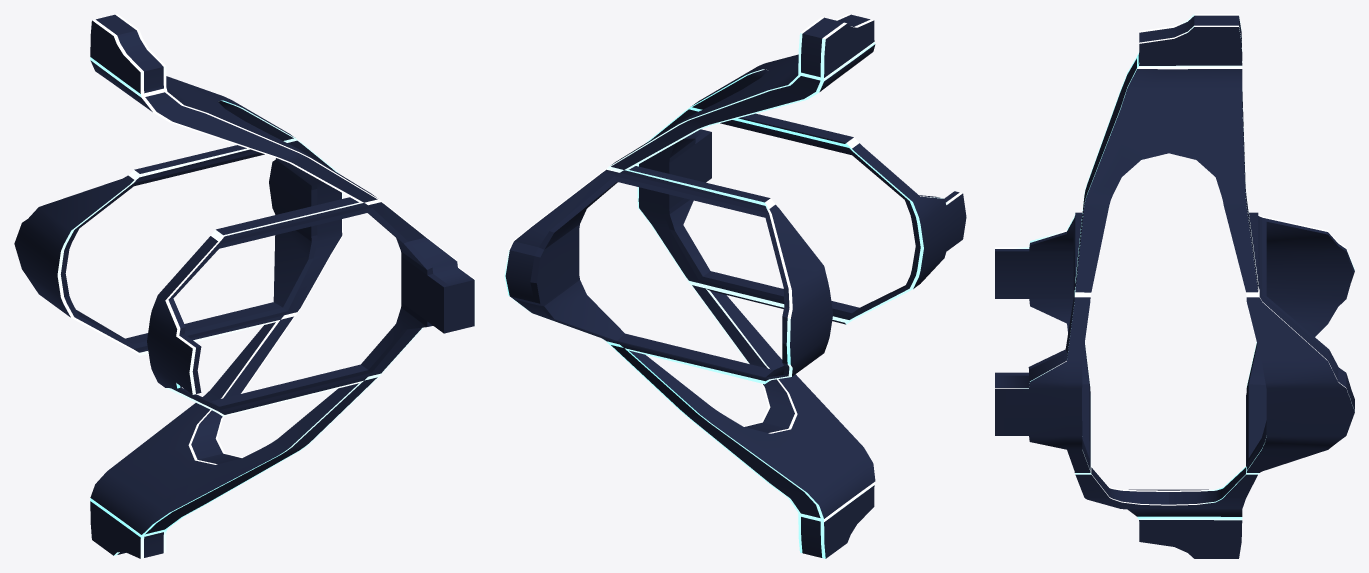
Rendered from TowerTunnel_2.fbx.
3 renders of one model, left to right at view 1: azimuth 30°, elevation 25°; view 2: azimuth 150°, elevation 25°; view 3: azimuth 270°, elevation 25°, orthographic. The views are drawn at different scales.
Parts seen in each view (by area): view 1: TowerTunnel_2; view 2: TowerTunnel_2; view 3: TowerTunnel_2.
Boxes of the visible parts, x1,y1,x2,y2 form: TowerTunnel_2: (14, 14, 475, 558); TowerTunnel_2: (504, 14, 966, 558); TowerTunnel_2: (995, 14, 1354, 558).
Bounding box in the file's own units: 1890 × 3279 × 2010.
